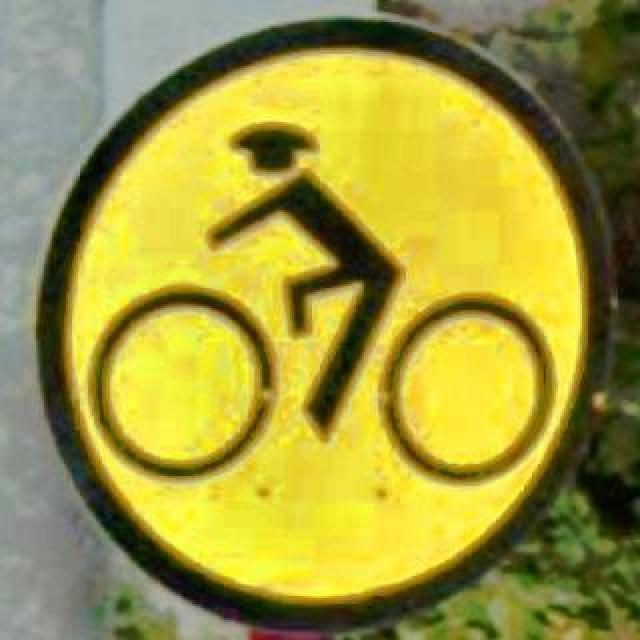bike lane: (34, 18, 616, 626)
